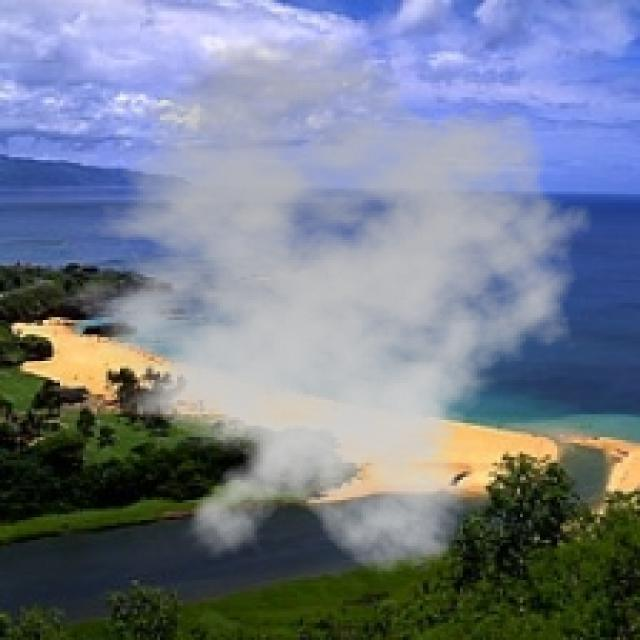Smoke: (37, 34, 606, 577)
